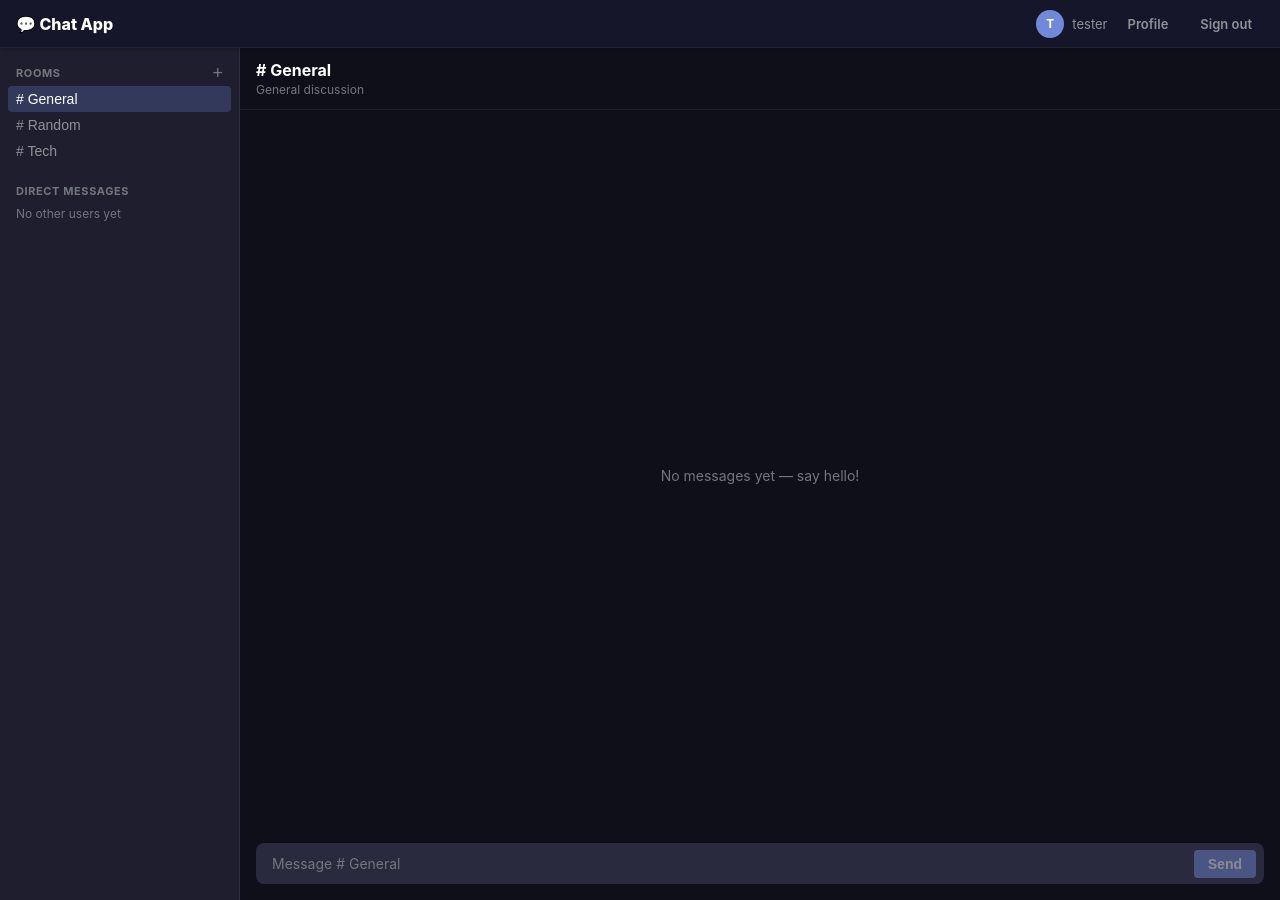
Test: ChatPage › sends a message on form submit
The width and height of the screenshot is (1280, 900).
Step 1. Type "Hello chat!" into the field named "message input" → [731, 864], box [272, 843, 1190, 884]
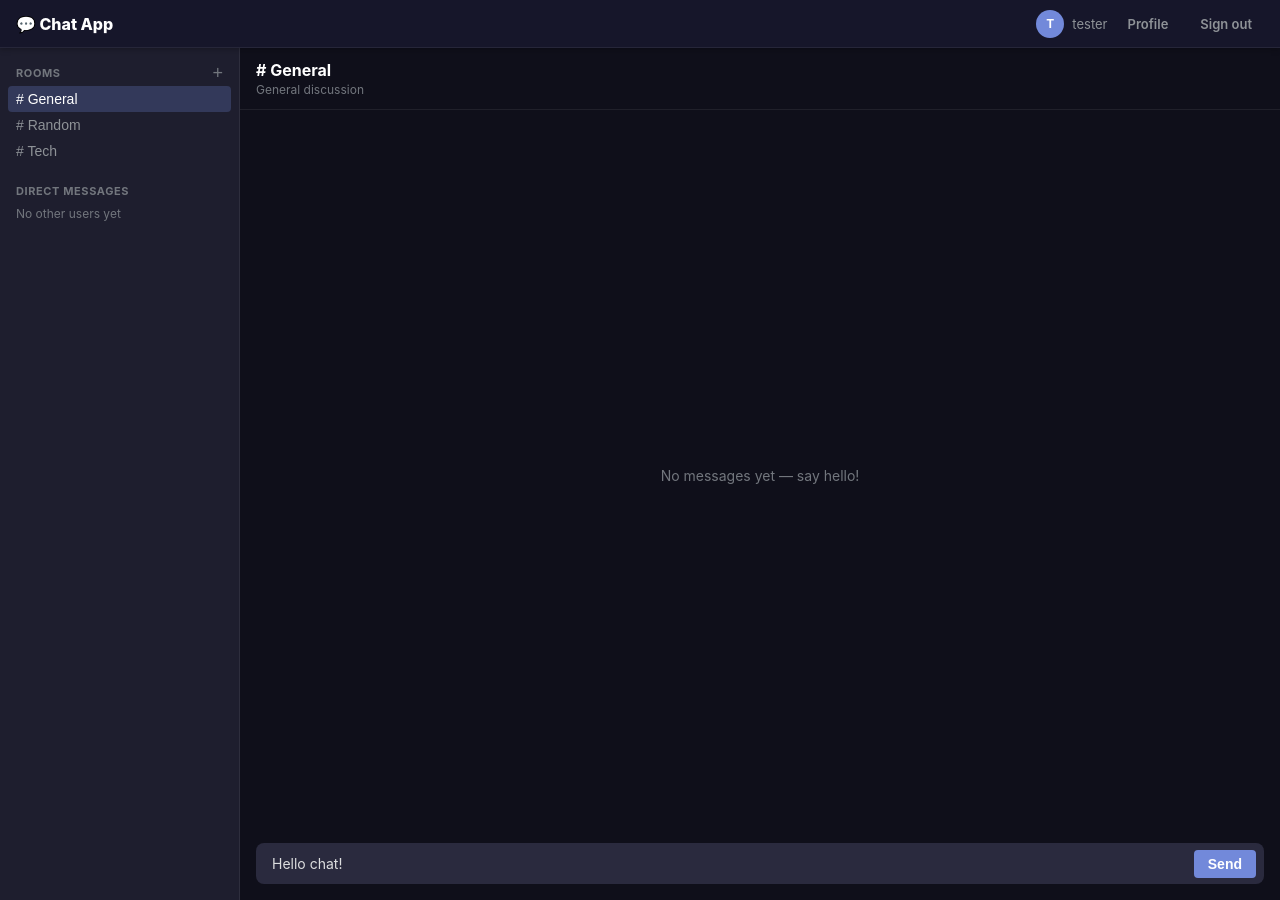
Step 2. Submit the form named "message input", box [256, 843, 1264, 884]
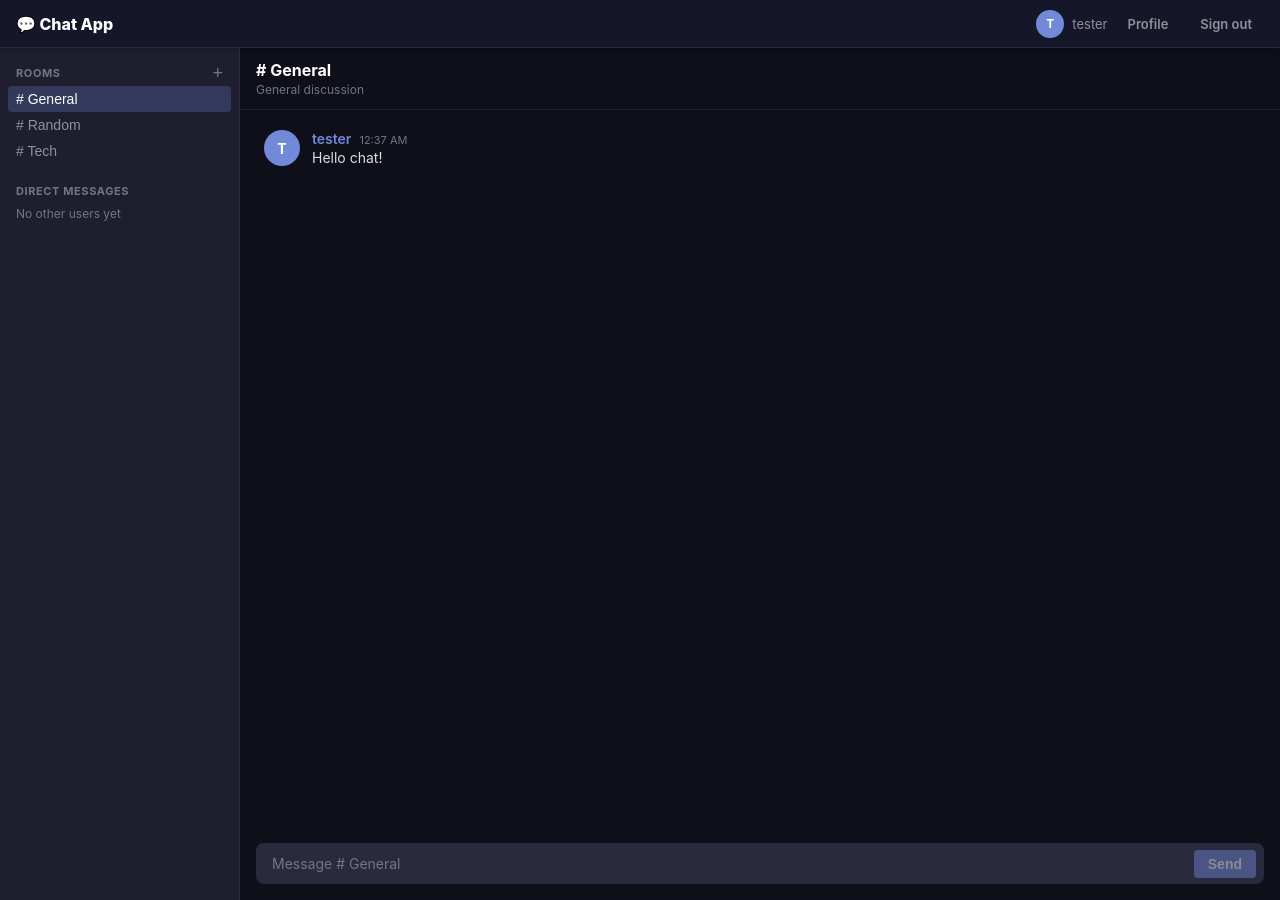
Now the text "Hello chat!" is shown, box [312, 149, 382, 166]
